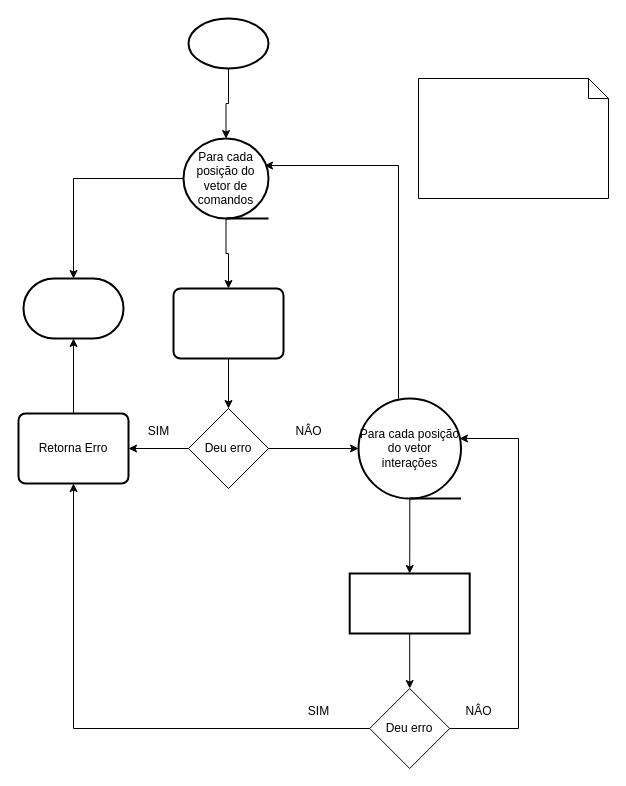
The diagram is 626 pixels wide and 786 high, and some of its shapes have lost their labels. The shapes that lost their labels are listed below. From the top down, each one's box as (x1, y1, x2, y2) in pixels, then its label:
(418, 78, 608, 198): Vetor de comandos = [ { comando:"sudo apt update", interacoes: ["senha"] }, ]
(172, 287, 284, 359): realiza o comando principal
(348, 572, 470, 634): Realiza o comando
